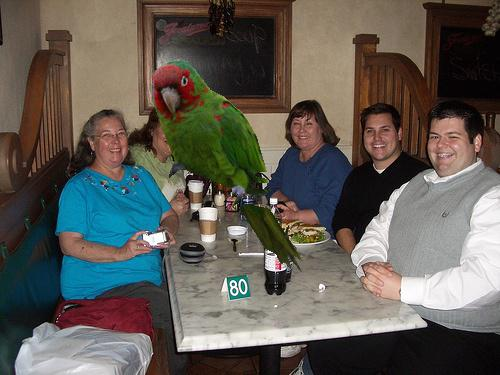tampered: (153, 60, 303, 273)
